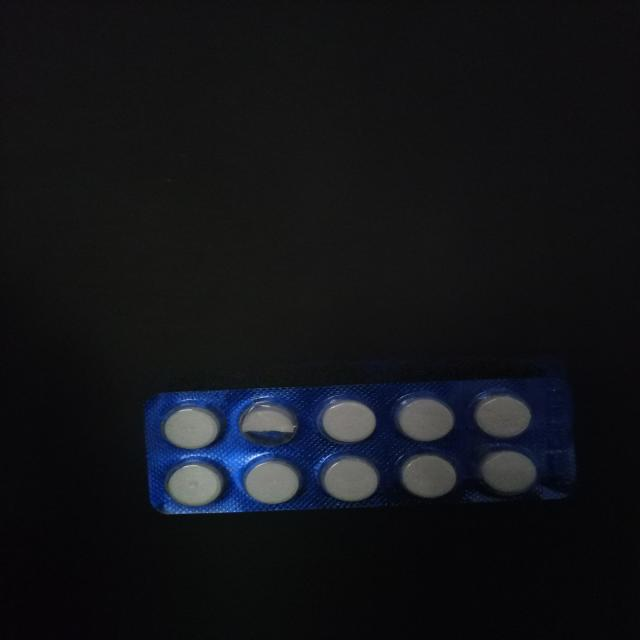defect: (236, 396, 304, 449)
